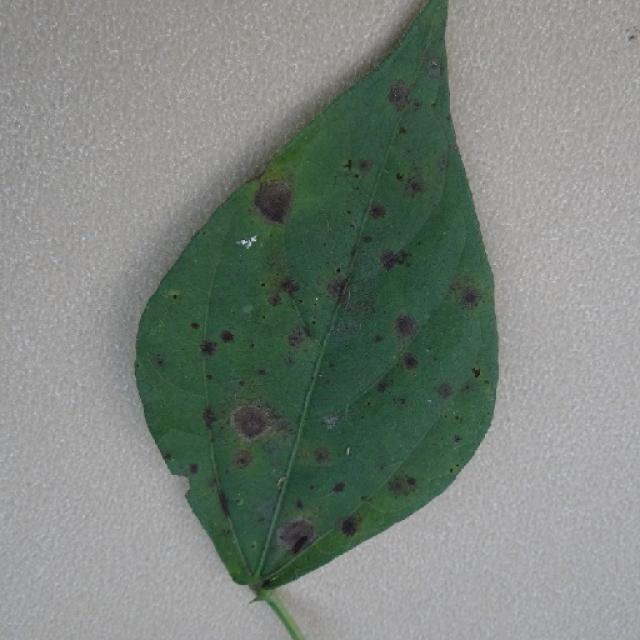Anthracnose: (214, 387, 294, 467), (198, 314, 253, 366), (263, 270, 308, 316), (253, 179, 295, 224), (275, 518, 318, 557), (314, 519, 359, 556), (325, 316, 367, 354), (232, 404, 275, 441), (258, 150, 298, 189), (236, 399, 272, 438), (354, 507, 387, 533), (347, 293, 378, 320), (341, 155, 373, 181), (453, 282, 483, 309), (249, 494, 278, 521), (392, 474, 419, 498), (388, 82, 411, 108), (394, 314, 418, 338), (327, 276, 351, 299), (380, 250, 405, 270), (278, 277, 301, 298), (340, 516, 359, 537), (312, 446, 332, 465), (202, 407, 219, 428), (401, 352, 419, 371), (406, 179, 425, 197), (435, 382, 454, 399), (218, 496, 232, 518), (288, 330, 305, 348), (199, 340, 218, 356), (426, 60, 442, 79), (321, 414, 341, 429), (369, 204, 387, 220), (357, 158, 372, 173), (234, 453, 250, 467), (219, 329, 235, 343), (267, 294, 283, 307), (300, 323, 313, 339), (240, 236, 257, 248), (376, 379, 390, 393), (153, 353, 166, 367), (166, 288, 181, 300), (410, 98, 422, 112), (439, 153, 448, 171), (332, 482, 346, 493), (188, 462, 199, 475), (259, 579, 271, 590), (406, 476, 417, 488), (372, 333, 384, 344), (206, 477, 218, 488), (242, 304, 254, 315), (361, 494, 374, 504), (395, 396, 407, 406), (343, 159, 353, 171), (162, 452, 173, 462), (284, 356, 295, 366), (472, 367, 481, 378), (295, 499, 304, 510), (362, 235, 373, 244), (395, 172, 405, 181), (453, 434, 462, 443), (399, 126, 408, 135), (190, 322, 200, 330), (328, 362, 336, 371), (206, 373, 214, 380), (236, 498, 243, 506), (250, 542, 257, 549), (454, 414, 461, 421), (366, 400, 372, 407), (354, 173, 360, 179), (484, 379, 490, 385), (346, 209, 352, 215), (336, 267, 341, 273), (260, 282, 266, 287), (449, 468, 454, 474), (135, 362, 140, 368), (455, 462, 460, 468), (261, 315, 266, 320)
Blackgram: (136, 0, 498, 599)
